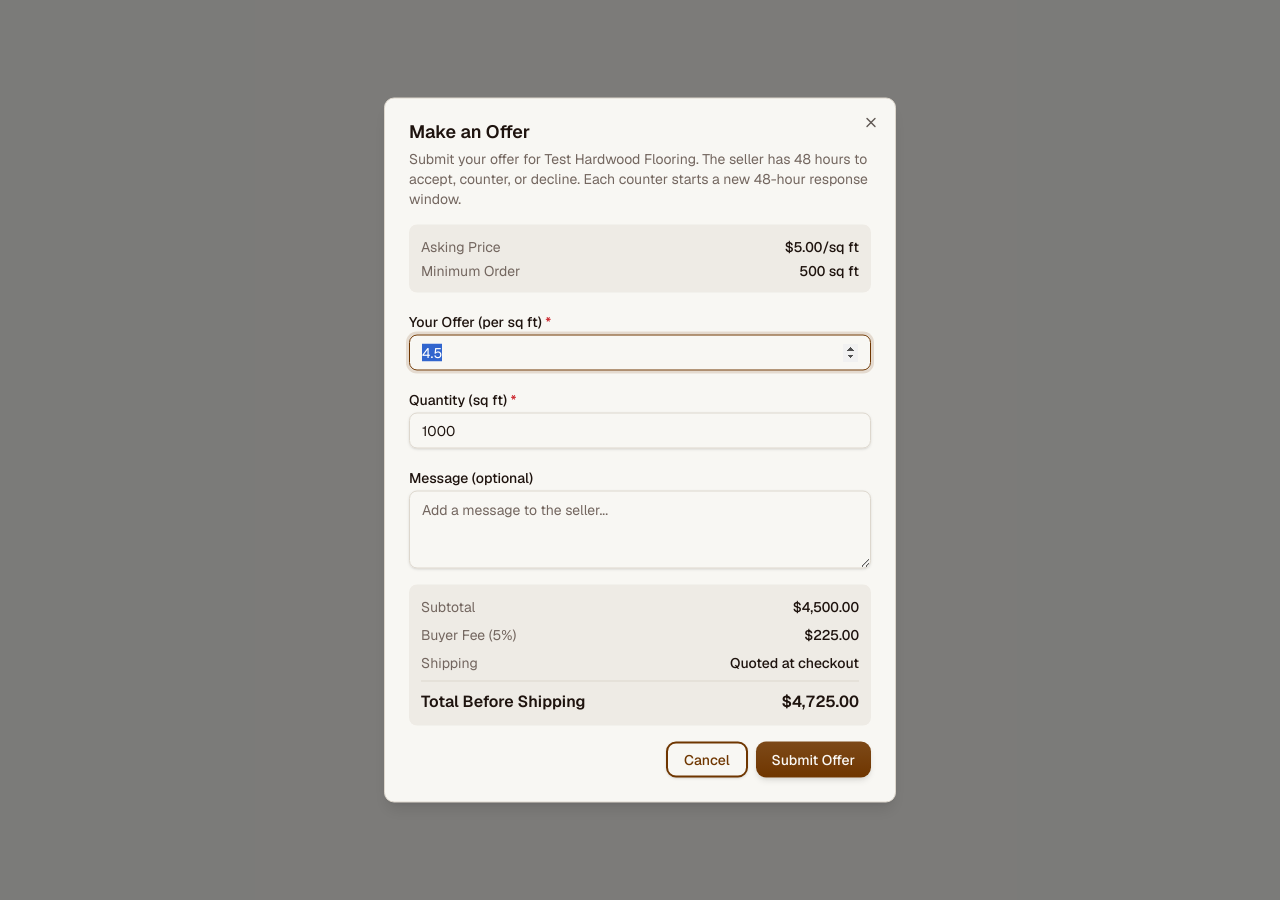
MakeOfferModal › calculates subtotal, buyer fee, and total correctly
Replace the text in the number field labelled "Your Offer (per sq ft) *" with "4.00": (640, 352) [409, 334, 871, 370]
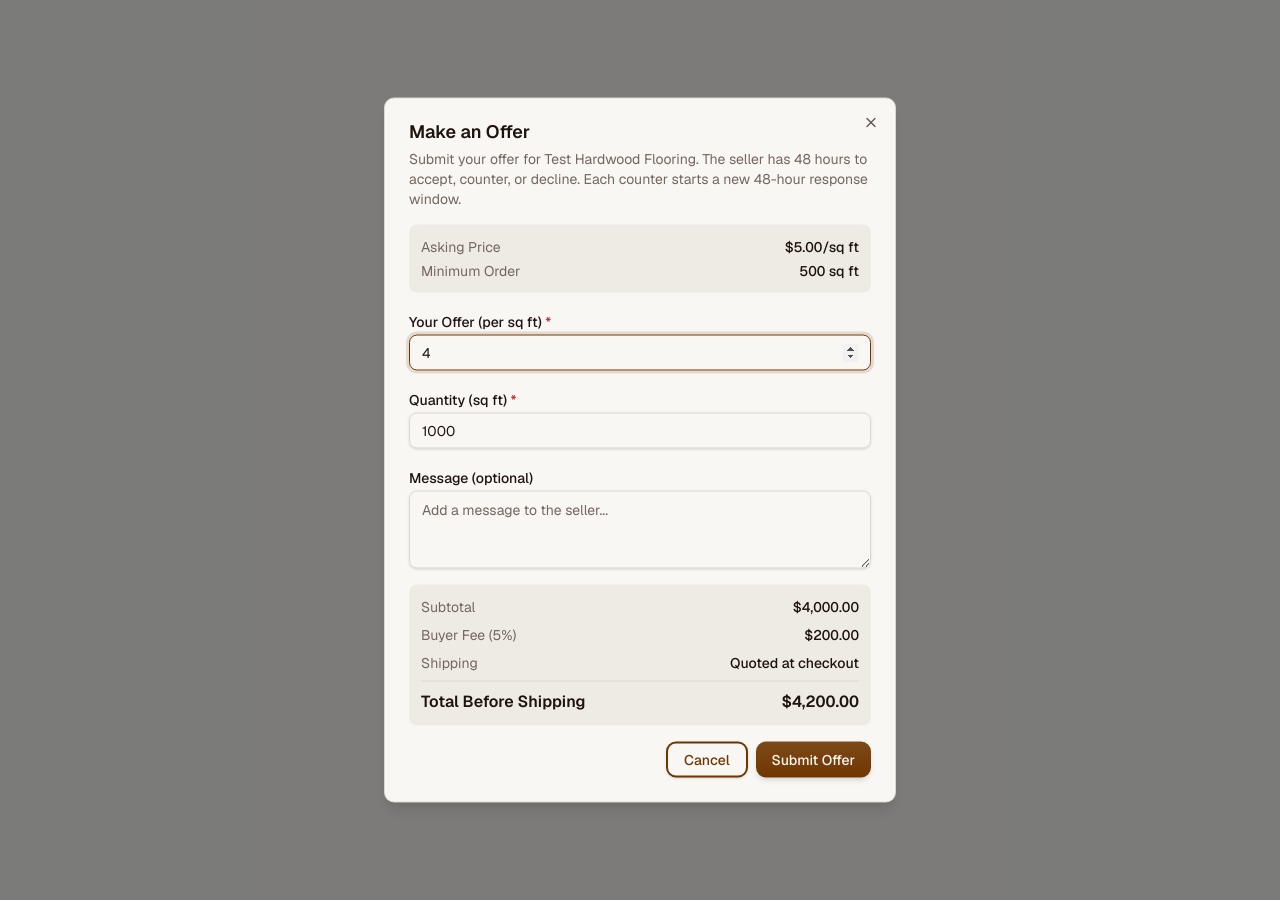
Replace the text in the number field labelled "Quantity (sq ft) *" with "800": (640, 430) [409, 412, 871, 448]
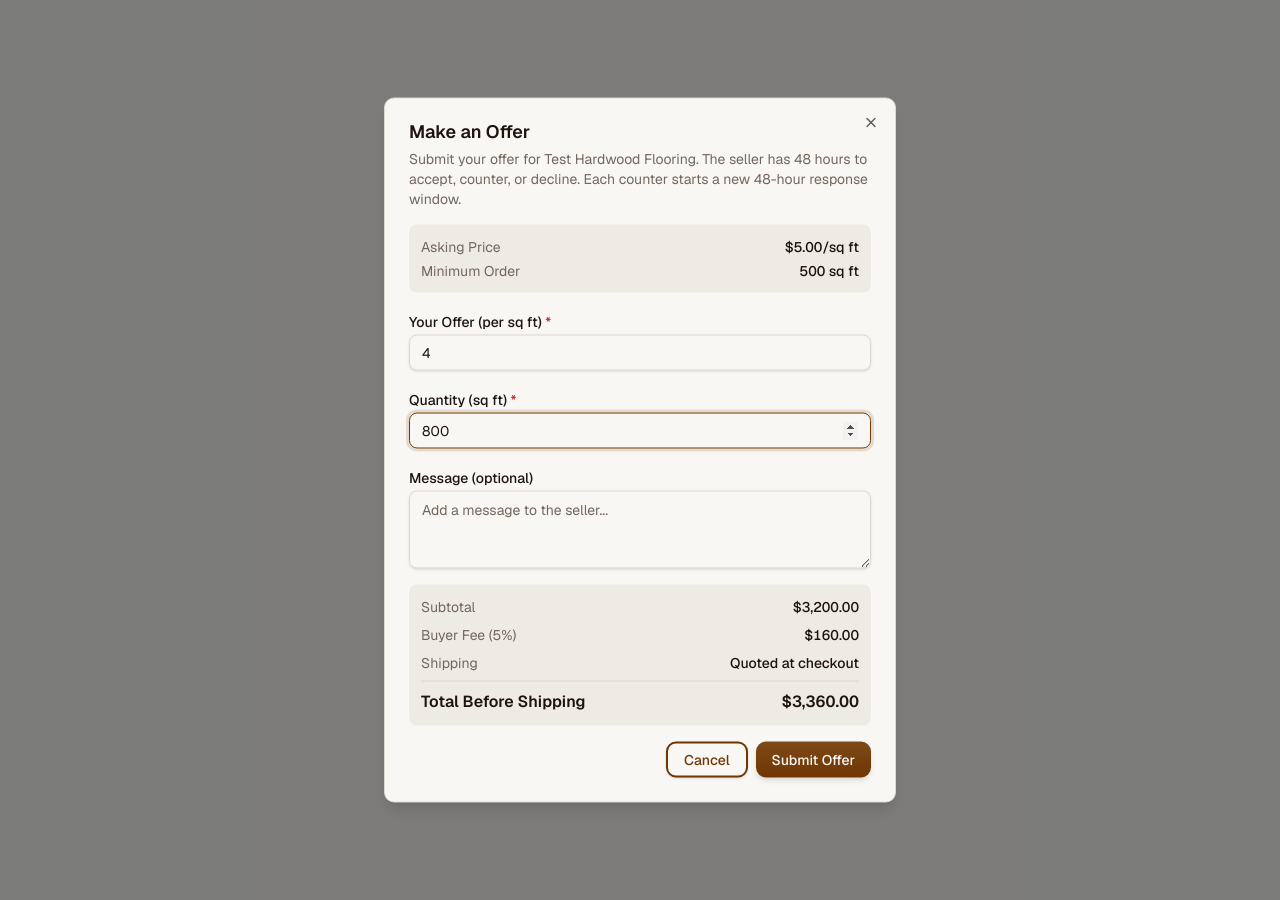
Check: the text "$3,200.00" is shown, box [793, 596, 859, 616]
Check: the text "$160.00" is shown, box [804, 624, 859, 644]
Check: the text "$3,360.00" is shown, box [781, 690, 859, 714]
